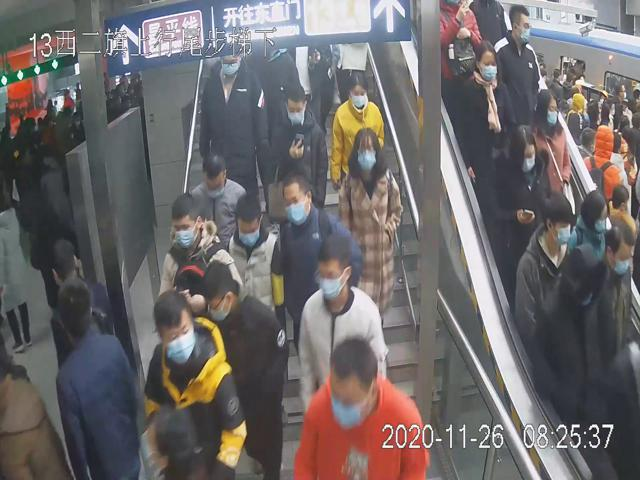person: (295, 233, 391, 421), (335, 124, 402, 325), (279, 171, 363, 309), (264, 72, 331, 222), (195, 45, 264, 188), (158, 190, 237, 304), (456, 39, 511, 174), (229, 188, 283, 325), (328, 70, 386, 190), (187, 149, 247, 247)
